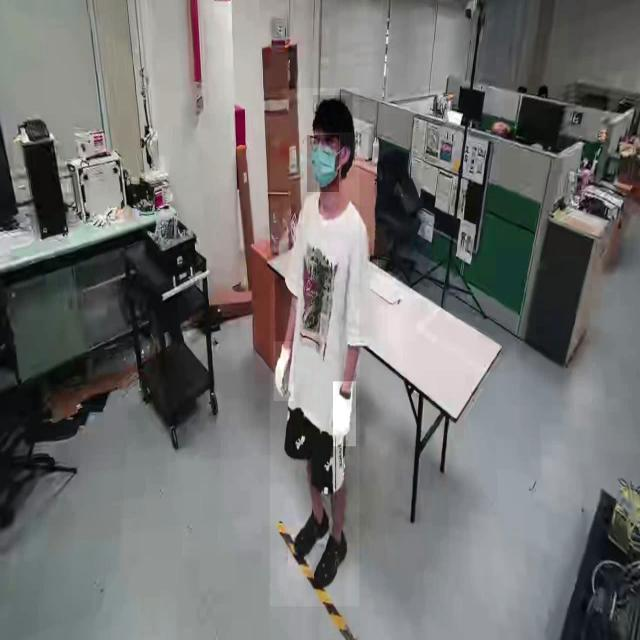face_mask: (307, 135, 339, 192)
hand_glove: (333, 381, 357, 447), (274, 341, 294, 402)
head_nohelmet: (313, 95, 353, 133)
person: (270, 88, 360, 607)
shoes: (312, 517, 353, 595), (288, 504, 332, 566)
